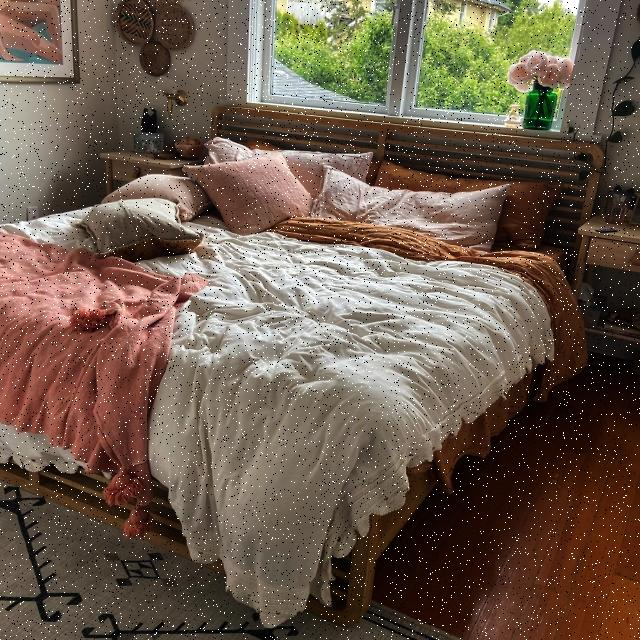bed: (0, 134, 594, 536)
